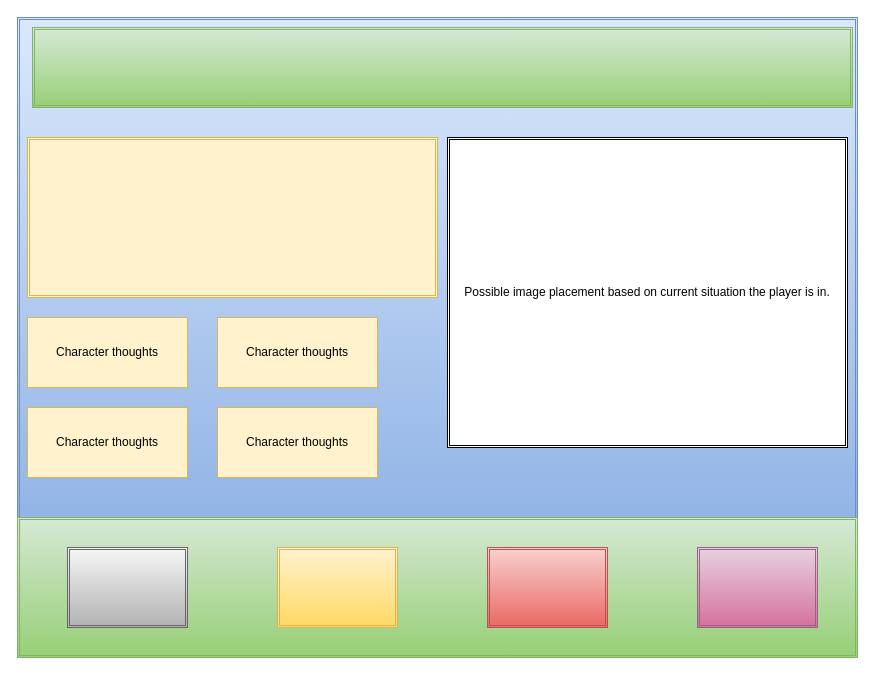
This 875x675 diagram has some shape labels left out. Each missing label, with the box of its shape:
TEXT OF AREA: (26, 136, 438, 298)
Title Of Location: (32, 26, 852, 108)
